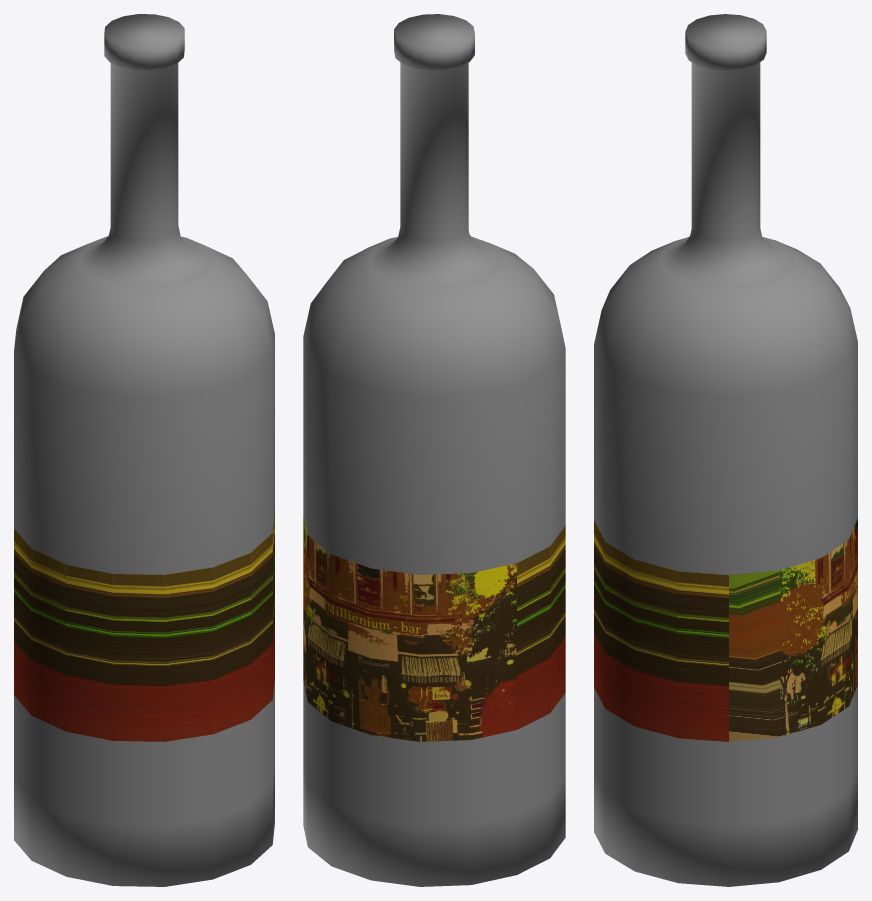
The model's file is Bouteille.fbx.
The picture shows the model from 3 angles, left to right: view 1: azimuth 30°, elevation 25°; view 2: azimuth 150°, elevation 25°; view 3: azimuth 270°, elevation 25°; orthographic projection.
Parts seen in each view (by area): view 1: BouteilleMaterial; view 2: BouteilleMaterial; view 3: BouteilleMaterial.
Boxes of the visible parts, x1=… form: BouteilleMaterial: x1=14, y1=14, x2=274, y2=886; BouteilleMaterial: x1=303, y1=14, x2=565, y2=886; BouteilleMaterial: x1=594, y1=14, x2=857, y2=886.
Bounding box in the file's own units: 200 × 200 × 669.
